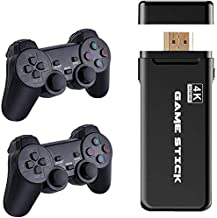gamingconsole: (5, 29, 109, 119), (7, 128, 111, 215)
